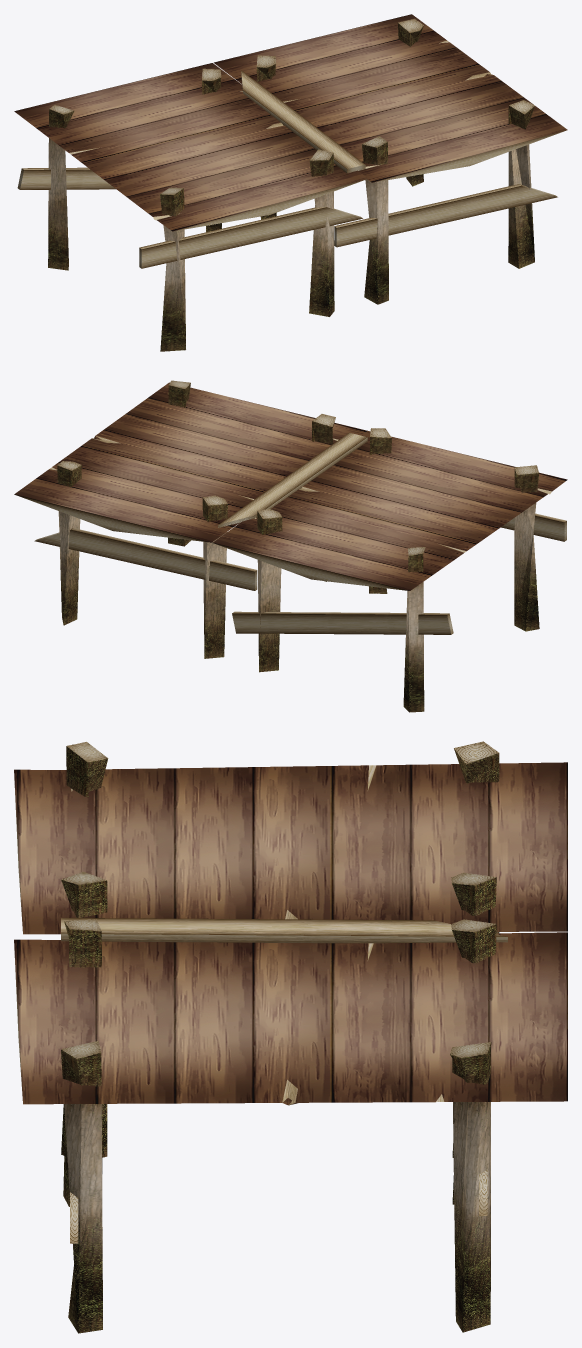
Rendered from p2_platform2_square_LOD1.fbx.
3 views of the same model, one above another, from view 1: azimuth 30°, elevation 25°; view 2: azimuth 150°, elevation 25°; view 3: azimuth 270°, elevation 25° (orthographic). The views are drawn at different scales.
Visible parts, largest first — view 1: polymsh; view 2: polymsh; view 3: polymsh.
Part boxes in pixels (x1,y1,x2,y2): polymsh: [14, 14, 567, 351]; polymsh: [14, 380, 567, 712]; polymsh: [14, 741, 567, 1333].
Bounding box in the file's own units: 212 × 76.35 × 138.
